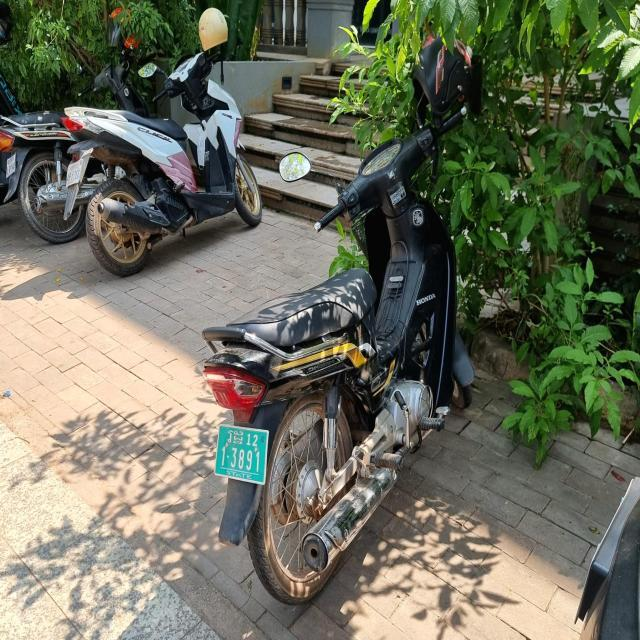State: (227, 429, 243, 446)
